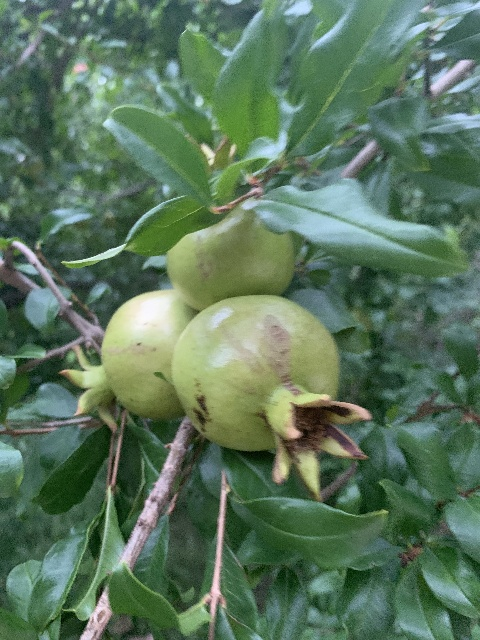mid-growth: (172, 294, 374, 500), (57, 289, 198, 432), (167, 206, 294, 309)
